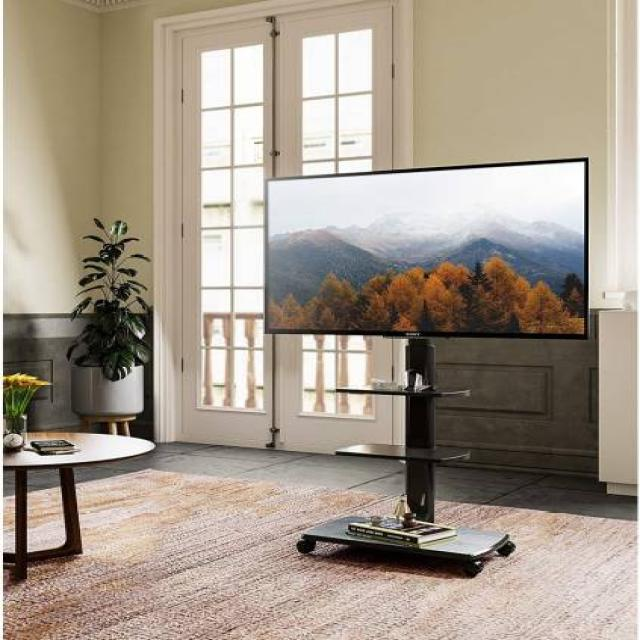electronics: (268, 158, 584, 335), (3, 432, 151, 578), (348, 517, 454, 545), (29, 438, 77, 452), (29, 438, 74, 450), (404, 368, 424, 391), (29, 447, 77, 455), (371, 378, 404, 389), (3, 433, 21, 450), (33, 631, 39, 634)
